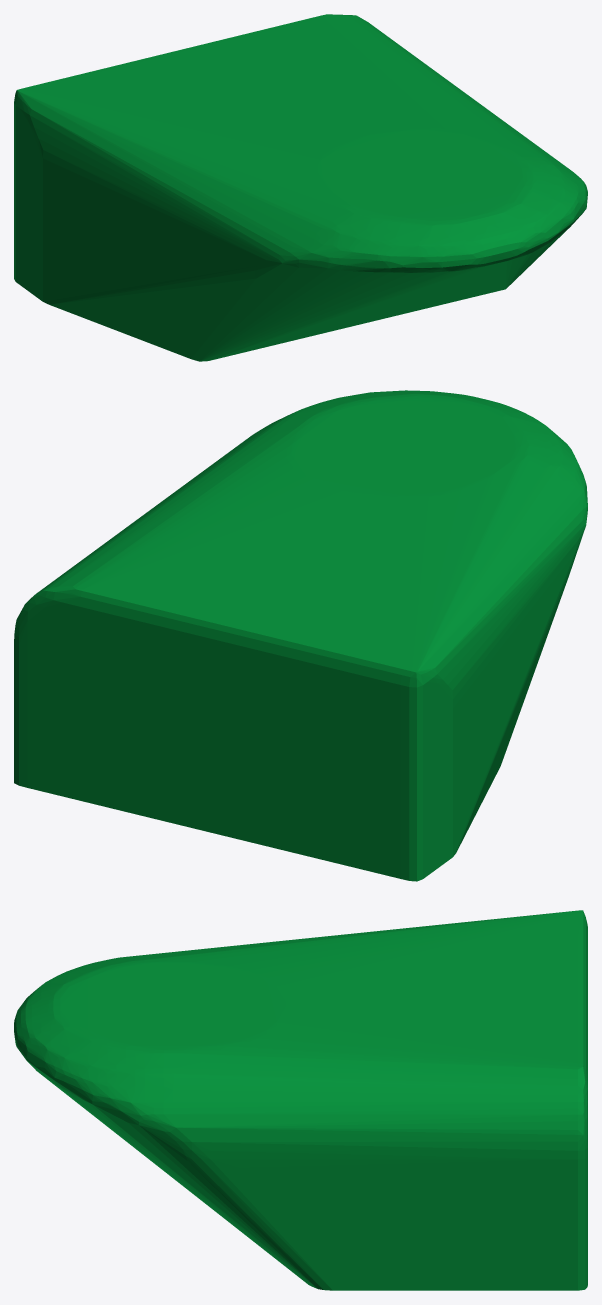
File: right_palm_part_33.obj
3 renders of one model, top to bottom at view 1: azimuth 30°, elevation 25°; view 2: azimuth 150°, elevation 25°; view 3: azimuth 270°, elevation 25°, orthographic. The views are drawn at different scales.
Bounding box in the file's own units: 21.48 × 10.99 × 27.89.
